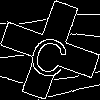C: (25, 25, 76, 81)
